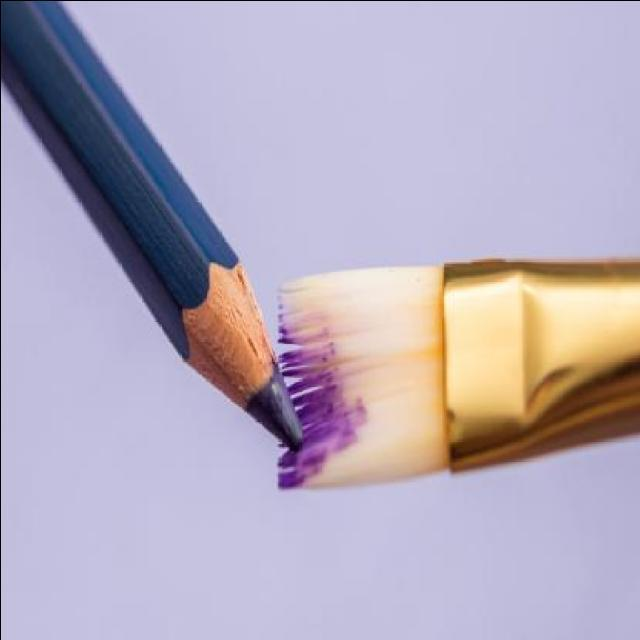Pencil: (142, 200, 315, 476)
